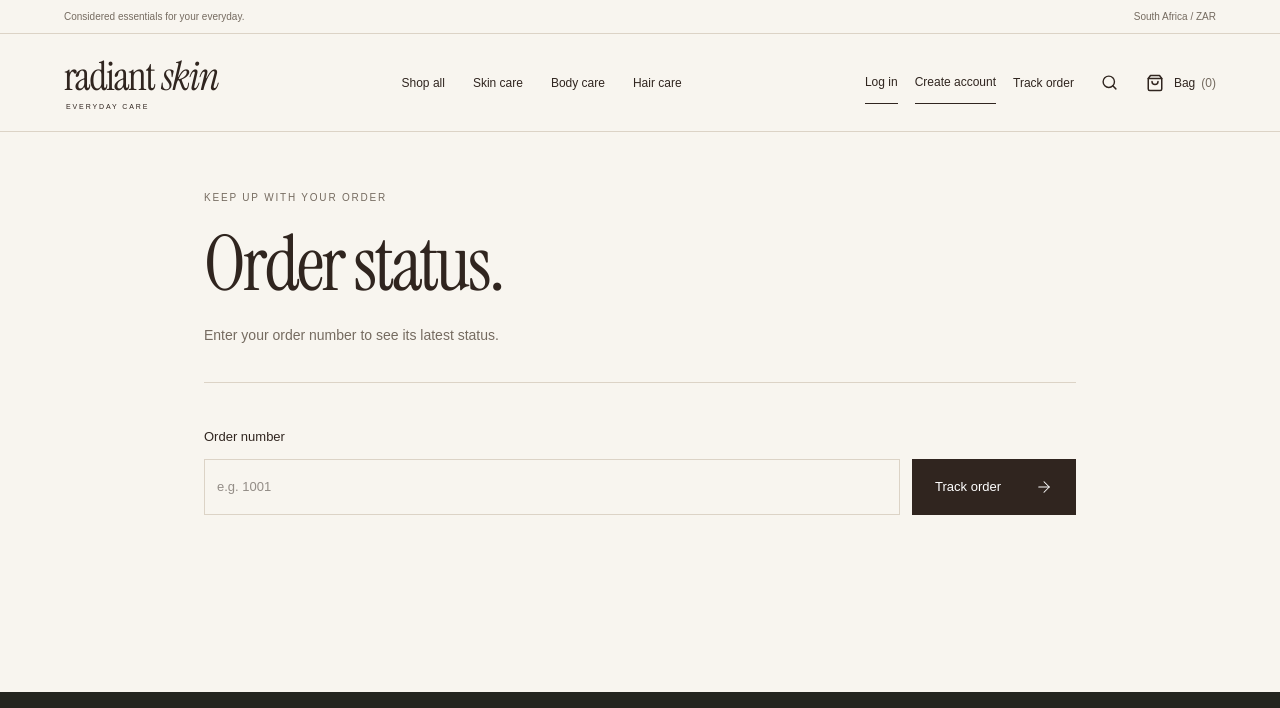
Test case: Customer storefront › looks up an existing order and displays its latest status
Type "42" into the field labelled "Order number". click: (552, 487)
box: 204,458 -> 900,515
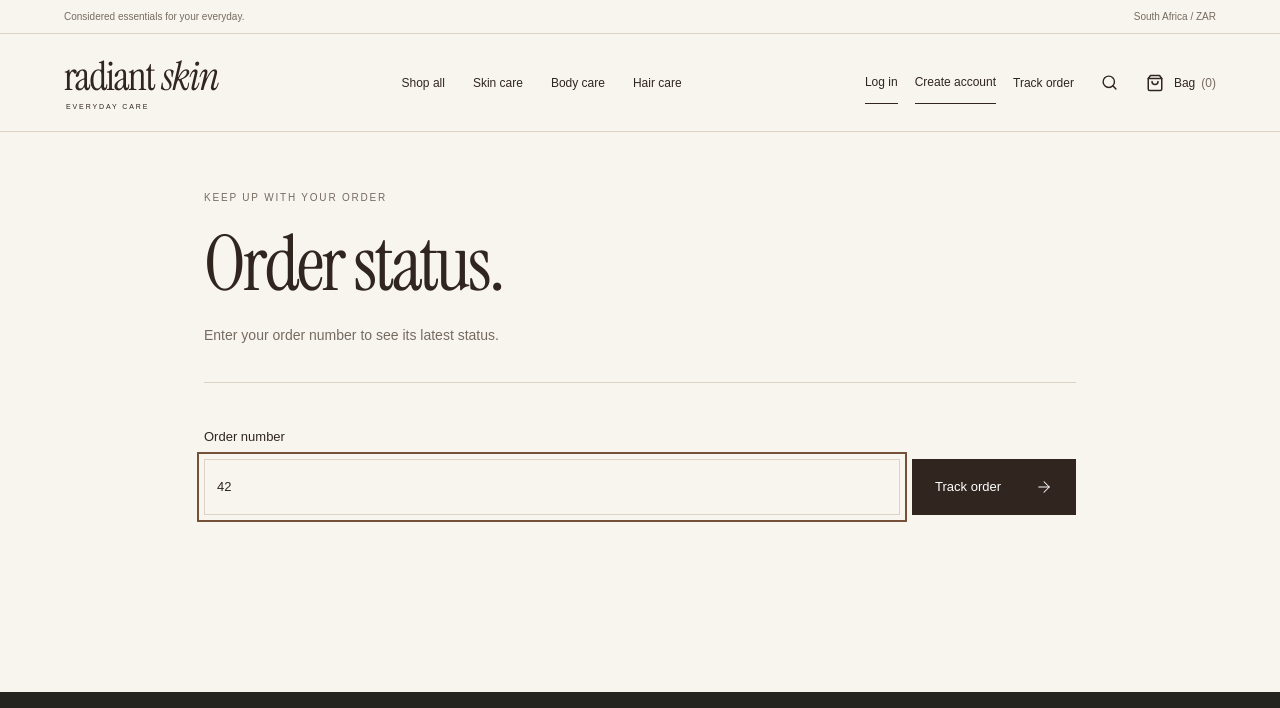
Click the button "Track order". click: click(994, 487)
box: 912,458 -> 1076,515
(page scrolled)
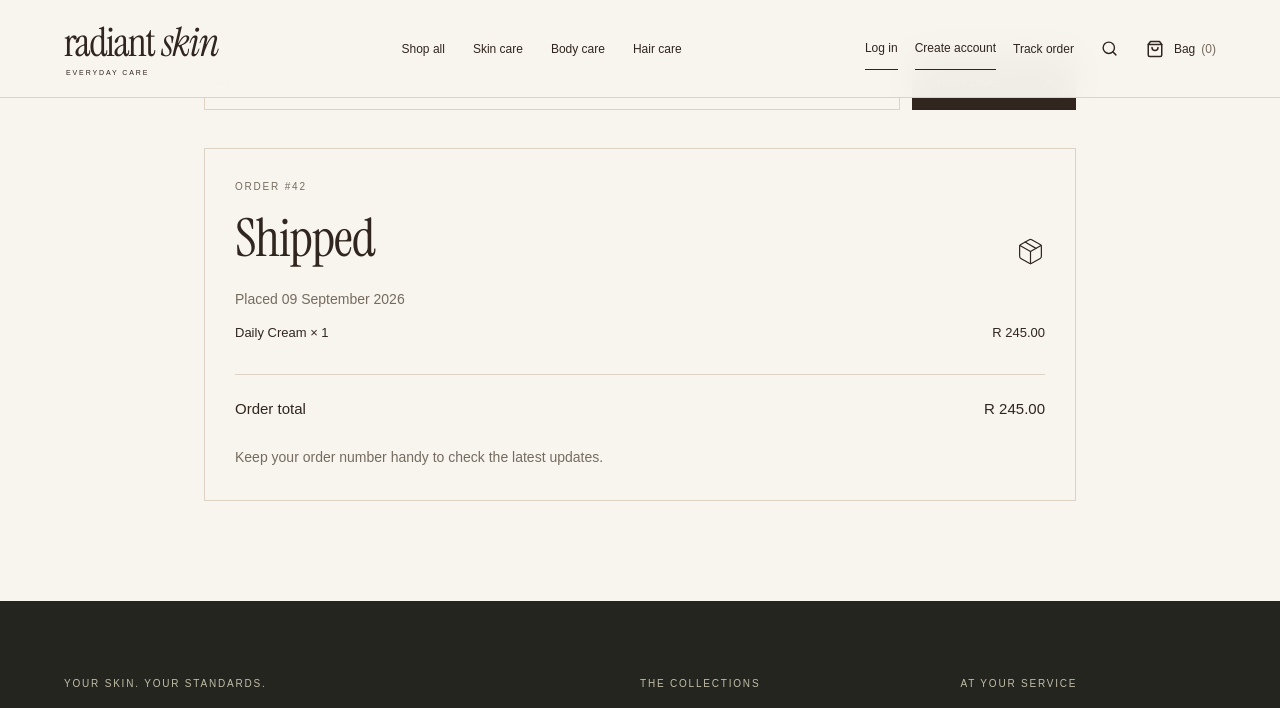
Expected: the heading "shipped" is shown, 235,211 -> 375,266
Expected: the text "Keep your order number handy to check the latest updates." is shown, 235,449 -> 603,465
